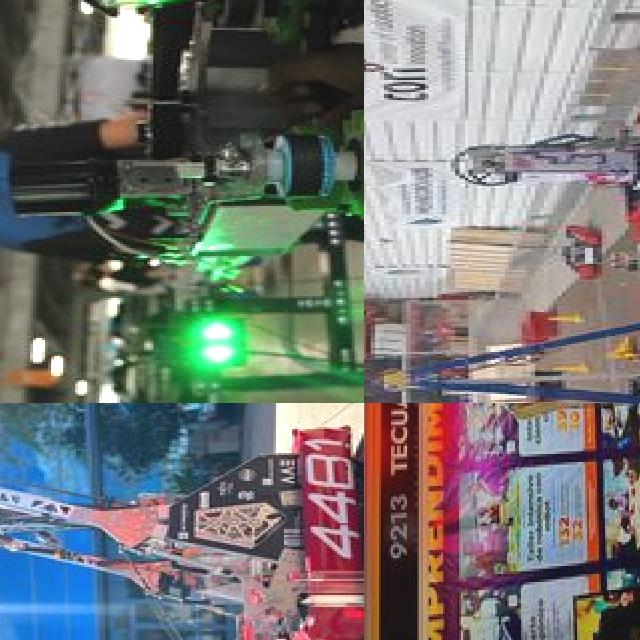FRC-Robots: (0, 403, 364, 640), (377, 300, 640, 403), (420, 93, 640, 211), (542, 210, 616, 284), (609, 192, 640, 310)
